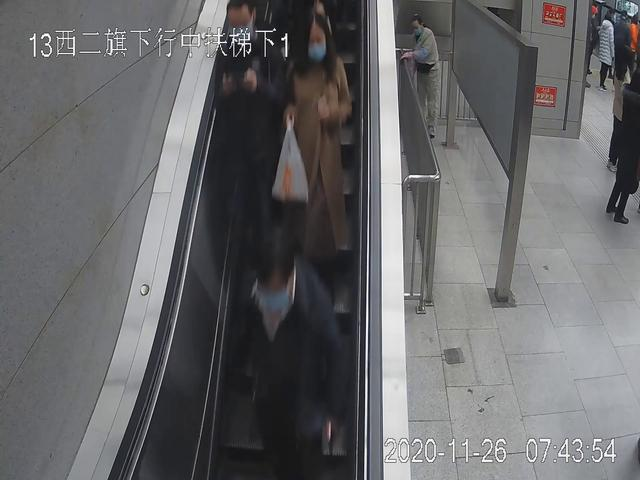person: (235, 230, 349, 474), (214, 1, 292, 298), (287, 11, 360, 312), (400, 12, 442, 137), (608, 74, 638, 224), (597, 9, 614, 92)
